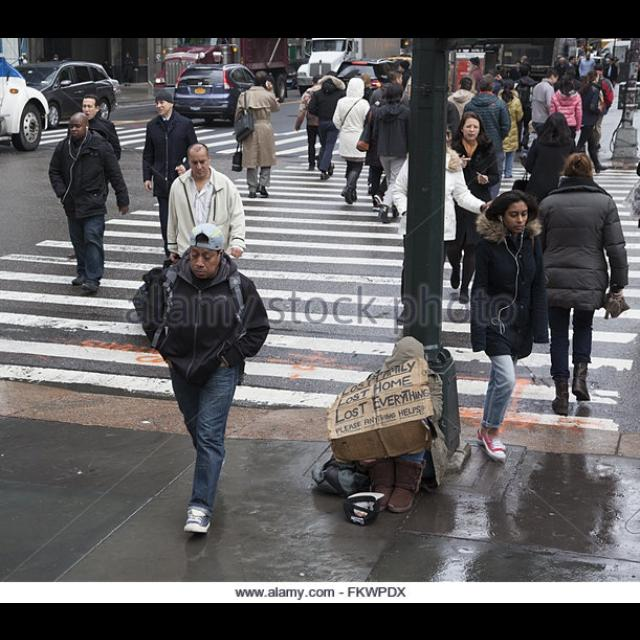head: (190, 222, 228, 280), (498, 190, 530, 234), (392, 336, 426, 374), (188, 142, 212, 178), (565, 153, 591, 180), (460, 112, 482, 142), (422, 126, 446, 150), (80, 95, 102, 121), (70, 113, 90, 141), (547, 112, 569, 136), (155, 92, 175, 116), (349, 76, 367, 95), (388, 69, 406, 87), (478, 76, 496, 94), (388, 83, 404, 103), (382, 86, 398, 104), (254, 70, 268, 86), (460, 76, 474, 92), (326, 71, 340, 85), (548, 70, 562, 84), (504, 78, 516, 92), (562, 75, 574, 89), (589, 70, 601, 84), (595, 62, 607, 76), (314, 74, 326, 86), (520, 67, 530, 77), (468, 57, 478, 67)
person: (131, 220, 275, 536), (534, 150, 634, 420), (467, 186, 553, 464), (163, 140, 249, 388), (392, 126, 494, 328), (360, 332, 452, 516), (46, 110, 132, 296), (443, 108, 502, 306), (141, 88, 203, 272), (510, 110, 584, 262), (64, 91, 124, 262), (461, 72, 513, 214), (230, 68, 282, 198), (373, 80, 415, 224), (356, 84, 402, 212), (366, 68, 412, 195), (332, 74, 374, 206), (444, 75, 484, 195), (307, 70, 348, 182), (574, 68, 612, 174), (294, 72, 334, 172), (548, 71, 584, 171), (492, 76, 526, 180), (582, 62, 616, 152), (532, 68, 560, 170), (510, 64, 540, 154), (461, 55, 487, 127)
